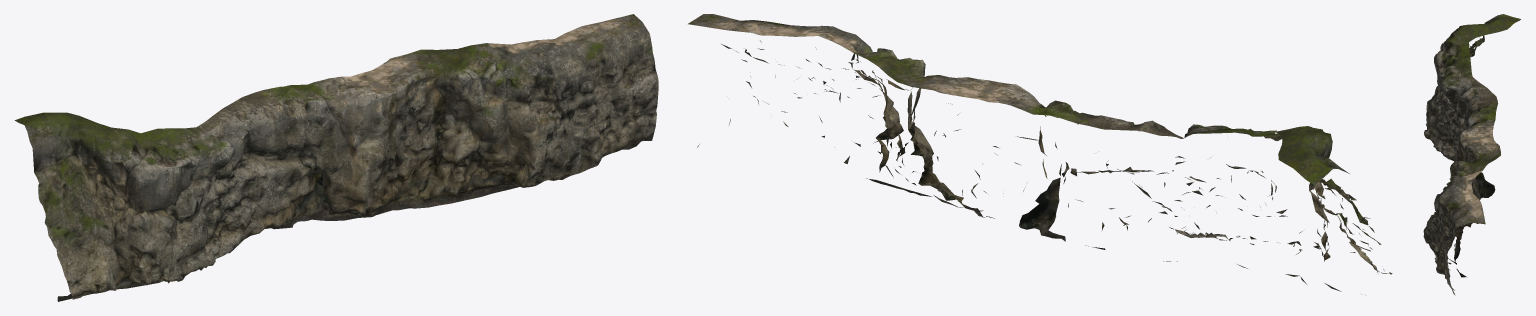
Rendered from hill_ledge.glb.
The picture shows the model from 3 angles, left to right: view 1: azimuth 30°, elevation 25°; view 2: azimuth 150°, elevation 25°; view 3: azimuth 270°, elevation 25°; orthographic projection. The views are drawn at different scales.
Visible parts, largest first — view 1: hill_ledge; view 2: hill_ledge; view 3: hill_ledge.
Part boxes in pixels (<box>): hill_ledge: <box>14,14,658,301</box>; hill_ledge: <box>688,14,1392,291</box>; hill_ledge: <box>1423,14,1520,295</box>.
Bounding box in the file's own units: 40.93 × 10.05 × 8.63.
Materials: 1 (1 with a texture image).
